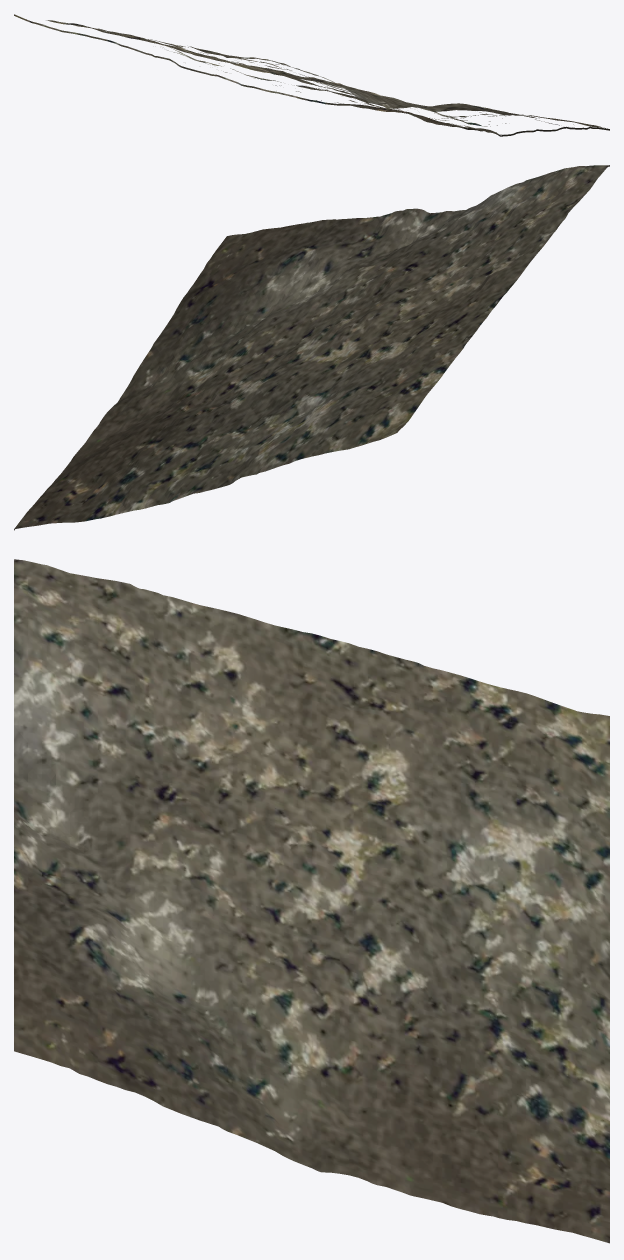
3 renders of one model, top to bottom at view 1: azimuth 30°, elevation 25°; view 2: azimuth 150°, elevation 25°; view 3: azimuth 270°, elevation 25°, orthographic. The views are drawn at different scales.
Size of the model in its own units: 250 by 189 by 241.
Materials: 1 (1 with a texture image).
